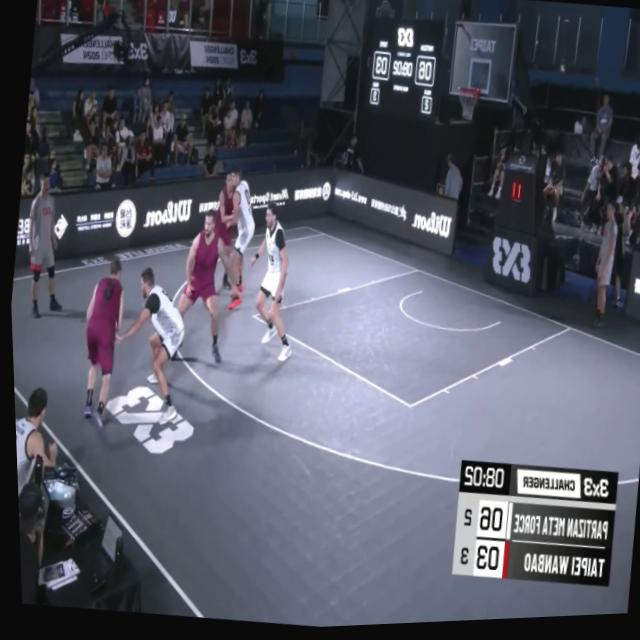hoop: (453, 88, 482, 128)
player: (101, 261, 197, 425), (231, 198, 308, 372), (162, 205, 235, 379), (67, 250, 131, 432), (211, 168, 262, 312), (202, 177, 244, 298)
